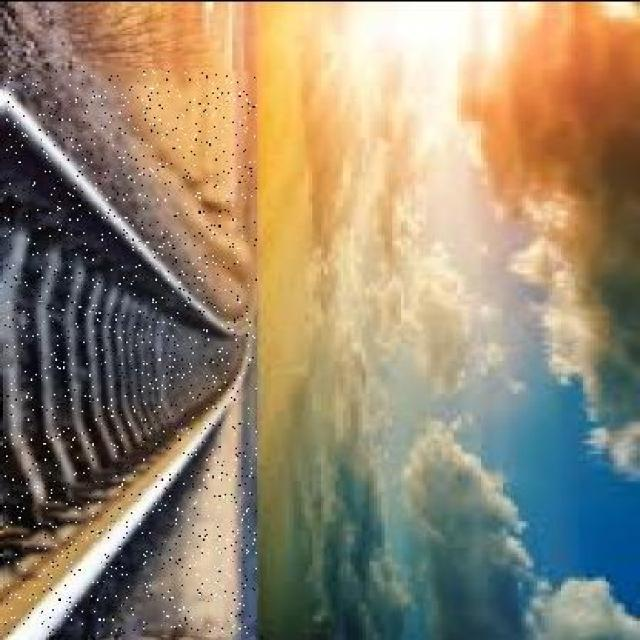rail: (5, 70, 256, 632)
